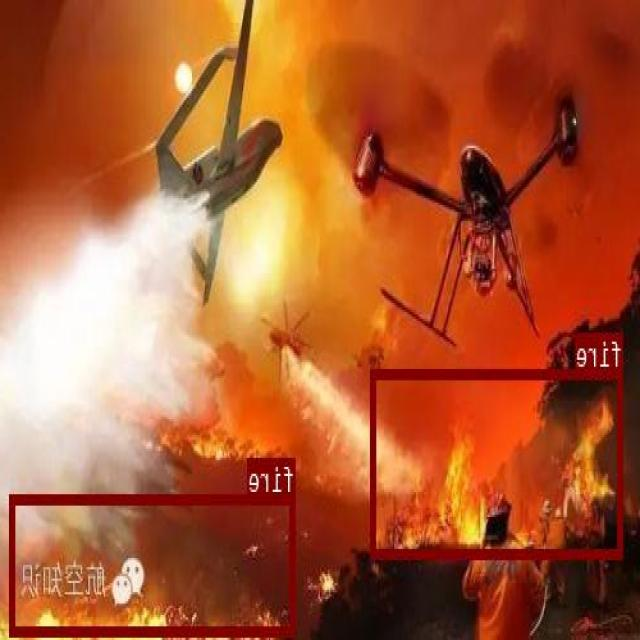fire: (372, 367, 623, 558), (10, 492, 296, 635)
